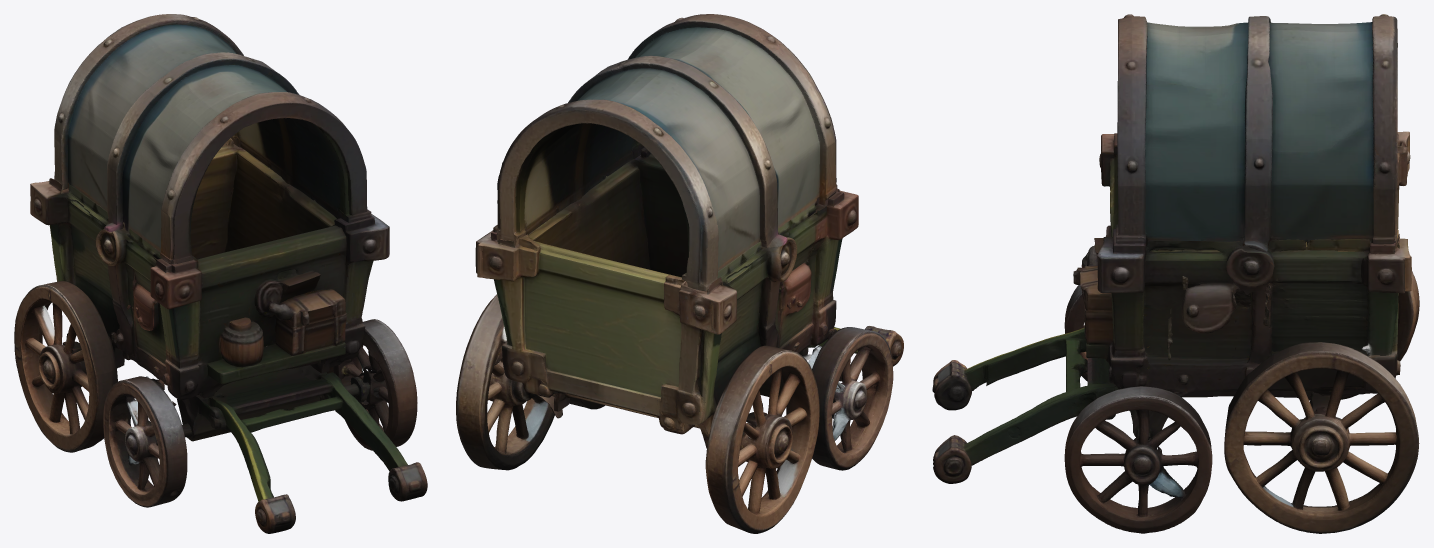
The picture shows the model from 3 angles, left to right: view 1: azimuth 30°, elevation 25°; view 2: azimuth 150°, elevation 25°; view 3: azimuth 270°, elevation 25°; orthographic projection. The views are drawn at different scales.
Parts seen in each view (by area): view 1: 0, 1, 2, 4, 6, 5; view 2: 0, 1, 4, 3, 6, 2; view 3: 1, 0, 3, 5, 2, 4, 6.
Boxes of the visible parts, box(x1,y1,x2,y2) form: 0: box(30, 138, 389, 400); 1: box(54, 14, 371, 264); 2: box(156, 365, 427, 533); 4: box(14, 281, 117, 452); 6: box(103, 376, 187, 507); 5: box(333, 319, 417, 450); 0: box(475, 147, 858, 448); 1: box(493, 14, 837, 291); 4: box(705, 345, 819, 533); 3: box(456, 294, 562, 470); 6: box(808, 327, 893, 470); 2: box(759, 326, 903, 402); 1: box(1116, 14, 1397, 251); 0: box(1073, 131, 1411, 414); 3: box(1224, 342, 1419, 533); 5: box(1064, 386, 1212, 533); 2: box(932, 327, 1167, 483); 4: box(1297, 270, 1419, 400); 6: box(1064, 285, 1087, 381).
Bounding box in the file's own units: 0.7113 × 0.9379 × 0.9452.
7 materials, 7 textured.
